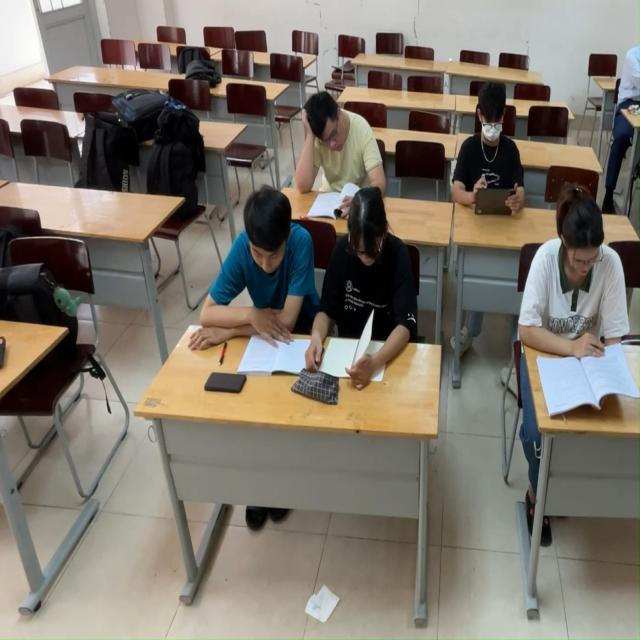read: (532, 180, 640, 429), (312, 204, 433, 402), (207, 175, 311, 390), (293, 72, 391, 196), (441, 99, 522, 214)
